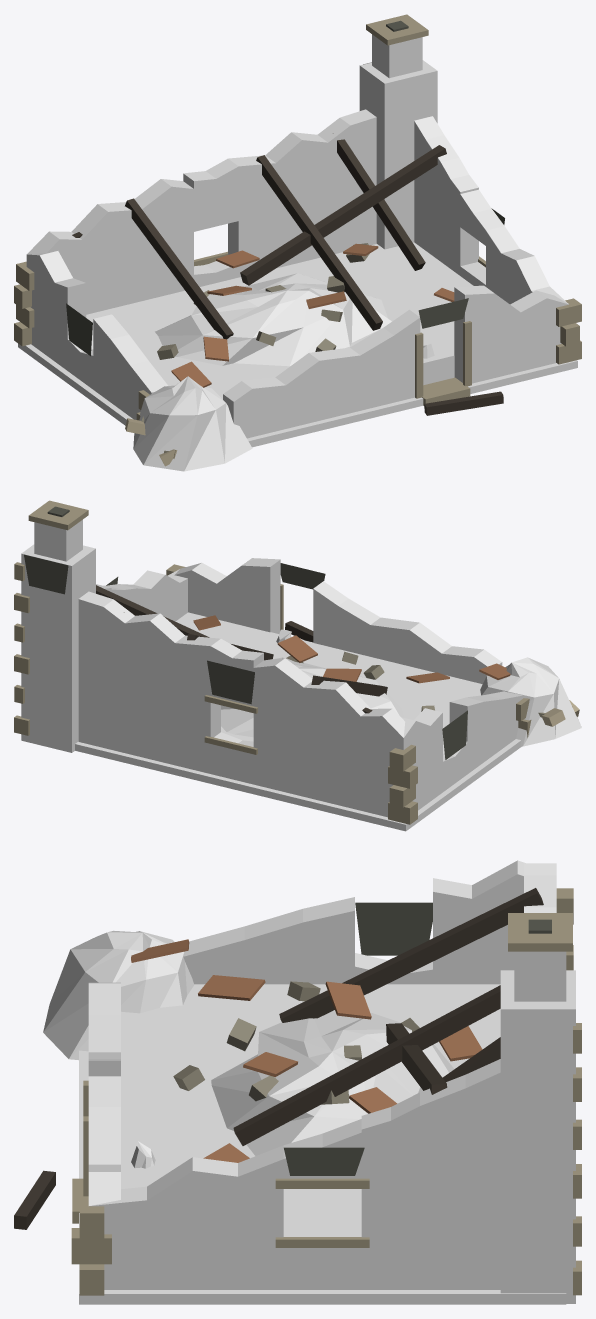
File: farmhouse_ruin_01.glb
The picture shows the model from 3 angles, top to bottom: view 1: azimuth 30°, elevation 25°; view 2: azimuth 150°, elevation 25°; view 3: azimuth 270°, elevation 25°; orthographic projection. The views are drawn at different scales.
Visible parts, largest first — view 1: COL_InteriorFill, COL_NorthWallE, COL_SouthWallW, COL_NorthWallW, CharredTimber_Geometry, COL_InteriorRubble, COL_SouthWallE, COL_CornerRubble, COL_ChimneyBase, Quoin_Geometry, COL_EastWallN, COL_WestWallS (+11 smaller); view 2: COL_NorthWallE, COL_NorthWallW, COL_ChimneyBase, COL_SouthWallW, COL_InteriorFill, Quoin_Geometry, COL_SouthWallE, COL_Footing, Soot_Geometry, COL_CornerRubble, COL_WestWallS, COL_WestWallN (+9 smaller); view 3: COL_EastWallN, COL_InteriorFill, COL_ChimneyBase, COL_EastWallS, CharredTimber_Geometry, COL_InteriorRubble, Quoin_Geometry, COL_WestWallS, COL_CornerRubble, COL_Footing, COL_WestWallN, Soot_Geometry (+9 smaller).
Part boxes in pixels (bbox=[...]): COL_InteriorFill: bbox=[86, 242, 473, 399]; COL_NorthWallE: bbox=[228, 109, 376, 277]; COL_SouthWallW: bbox=[223, 309, 420, 438]; COL_NorthWallW: bbox=[26, 179, 193, 348]; CharredTimber_Geometry: bbox=[72, 133, 503, 415]; COL_InteriorRubble: bbox=[155, 273, 391, 366]; COL_SouthWallE: bbox=[454, 285, 568, 383]; COL_CornerRubble: bbox=[133, 376, 252, 471]; COL_ChimneyBase: bbox=[359, 60, 437, 249]; Quoin_Geometry: bbox=[14, 14, 581, 420]; COL_EastWallN: bbox=[414, 116, 478, 275]; COL_WestWallS: bbox=[93, 314, 167, 419]; COL_NorthWallE: bbox=[78, 591, 220, 773]; COL_NorthWallW: bbox=[253, 658, 413, 816]; COL_ChimneyBase: bbox=[21, 544, 95, 752]; COL_SouthWallW: bbox=[313, 581, 502, 683]; COL_InteriorFill: bbox=[175, 612, 482, 744]; Quoin_Geometry: bbox=[14, 500, 531, 824]; COL_SouthWallE: bbox=[174, 558, 280, 633]; COL_Footing: bbox=[75, 739, 521, 831]; Soot_Geometry: bbox=[24, 506, 467, 759]; COL_CornerRubble: bbox=[480, 657, 581, 746]; COL_WestWallS: bbox=[449, 691, 523, 773]; COL_WestWallN: bbox=[385, 708, 442, 817]; COL_EastWallN: bbox=[361, 1059, 500, 1289]; COL_InteriorFill: bbox=[121, 984, 500, 1227]; COL_ChimneyBase: bbox=[500, 970, 575, 1303]; COL_EastWallS: bbox=[89, 1145, 283, 1289]; CharredTimber_Geometry: bbox=[14, 888, 543, 1229]; COL_InteriorRubble: bbox=[211, 1011, 454, 1155]; Quoin_Geometry: bbox=[71, 888, 581, 1295]; COL_WestWallS: bbox=[183, 897, 354, 984]; COL_CornerRubble: bbox=[43, 930, 193, 1060]; COL_Footing: bbox=[79, 1050, 566, 1304]; COL_WestWallN: bbox=[433, 860, 525, 984]; Soot_Geometry: bbox=[284, 902, 551, 1175].
Size of the model in its own units: 11.61 by 6.09 by 8.74.
